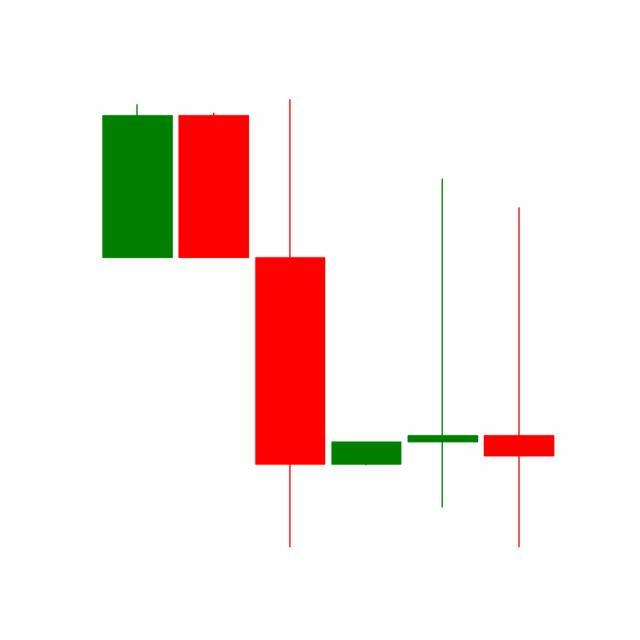Spinning Top: (404, 174, 482, 512)
